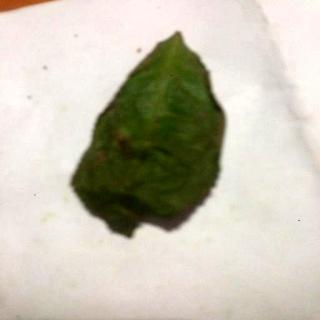Red Leaf Spot: (73, 34, 231, 233)
